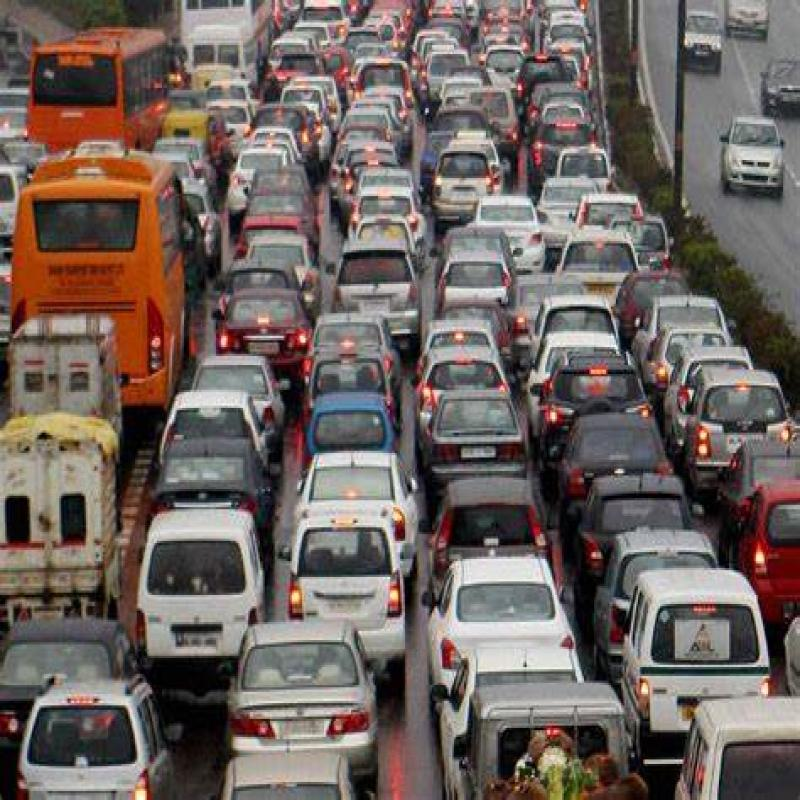car: (125, 496, 259, 691), (233, 618, 376, 788), (632, 576, 774, 747), (435, 559, 573, 703), (20, 678, 176, 800), (300, 451, 425, 589), (603, 503, 710, 657), (151, 380, 269, 518), (582, 467, 700, 603), (554, 358, 664, 490), (558, 401, 666, 531), (306, 326, 396, 427), (306, 378, 398, 474), (539, 323, 632, 405)
